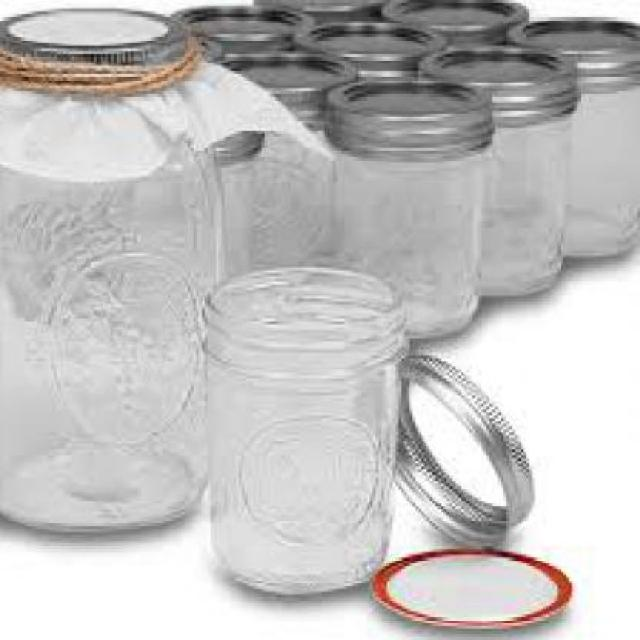GLASS: (3, 80, 228, 529), (205, 266, 412, 592), (332, 144, 496, 338), (475, 109, 577, 293), (570, 84, 638, 253), (216, 159, 259, 279)
METAL: (392, 350, 540, 541), (3, 3, 194, 80), (333, 76, 498, 159), (421, 42, 581, 122), (216, 49, 367, 120), (512, 14, 638, 92), (296, 20, 458, 80), (171, 3, 312, 60), (383, 0, 532, 49), (256, 0, 390, 23), (216, 128, 270, 162)
